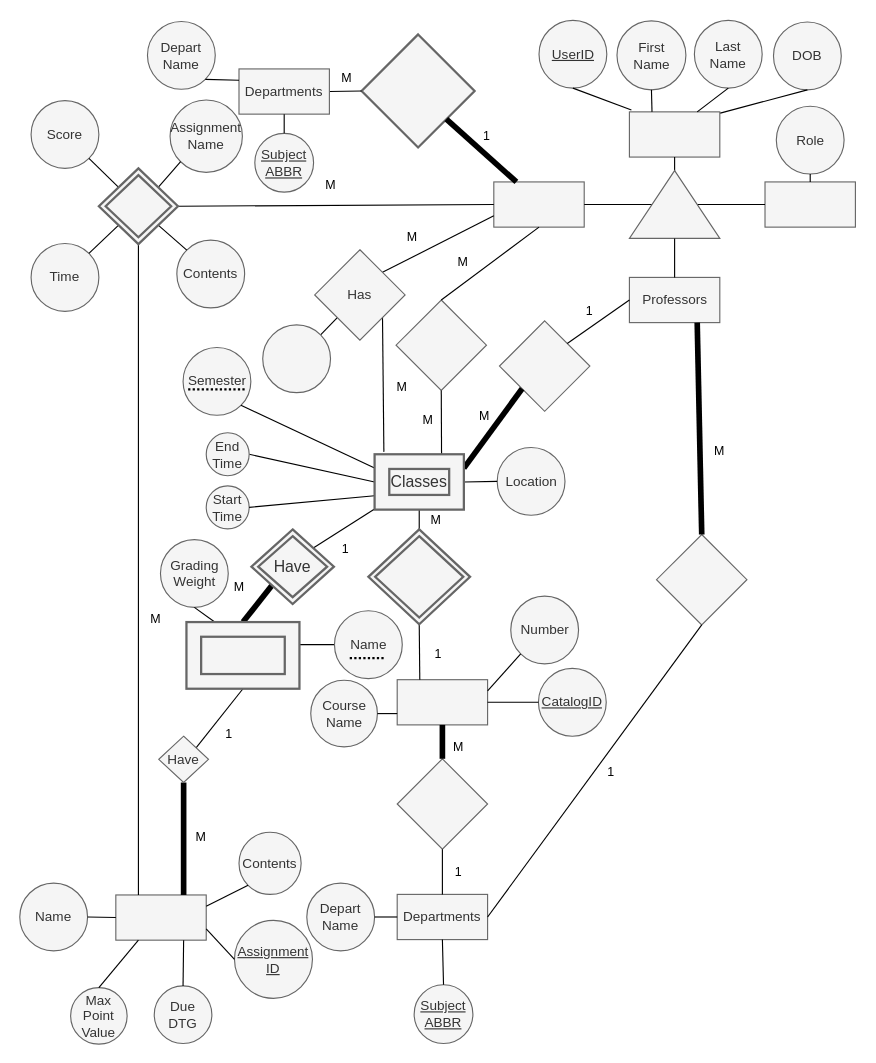
Image size: 876x1063. Some labels were removed from this diagram. Each missing label, with the centre of its shape:
Administrators: point (809, 204)
Assignment Categories: point (242, 654)
Assignments: point (160, 917)
Courses: point (442, 702)
Grade: point (296, 358)
Instance Of: point (419, 576)
Is A: point (674, 203)
Is Enrolled In: point (440, 344)
Listed Under A: point (442, 803)
Majoring In: point (417, 90)
Students: point (538, 204)
Submit: point (138, 206)
Teaches: point (544, 365)
Users: point (674, 134)
Works In: point (701, 579)
